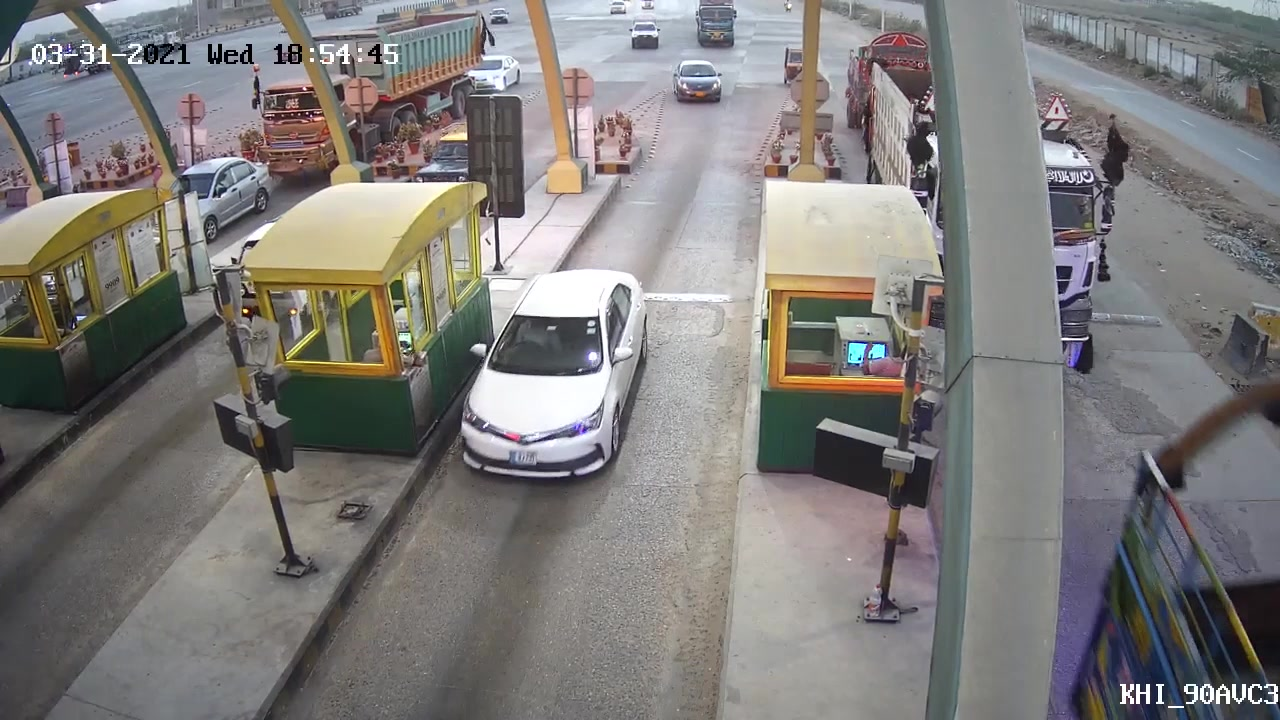F1: (450, 266, 656, 493)
